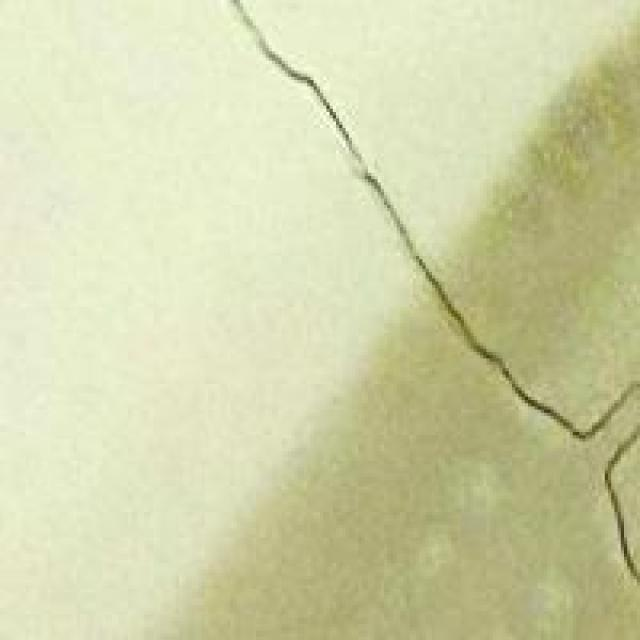Crack: (224, 3, 637, 557)
